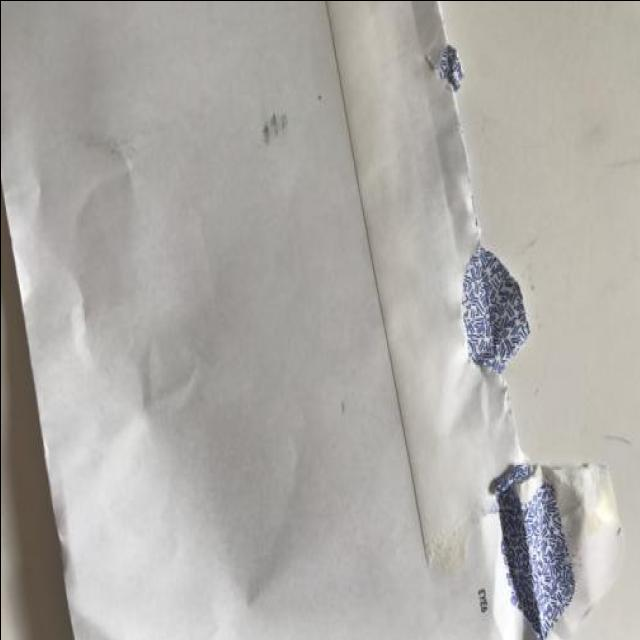kertas: (0, 0, 626, 640)
